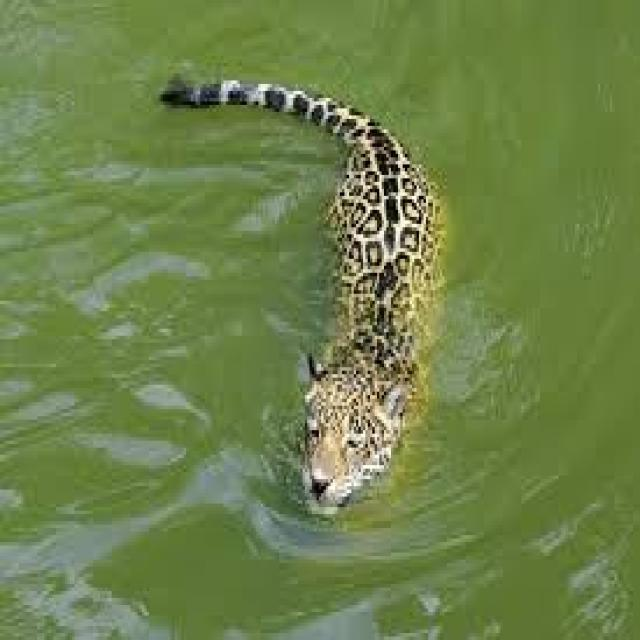Jaguar: (174, 49, 444, 504)
